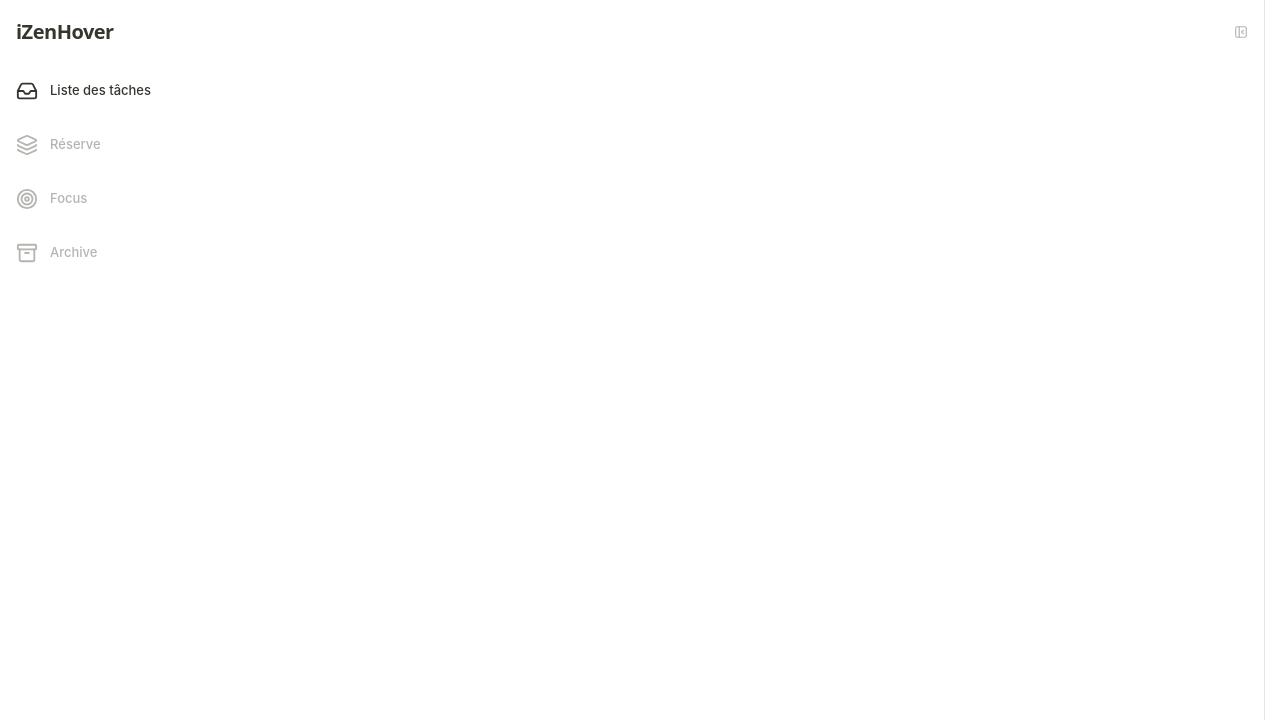
Test: SidebarNav — collapse toggle › updates the toggle button aria-label when collapsed
Click the button named "Réduire la navigation".
click(1241, 32)  # box [1234,16,1248,48]
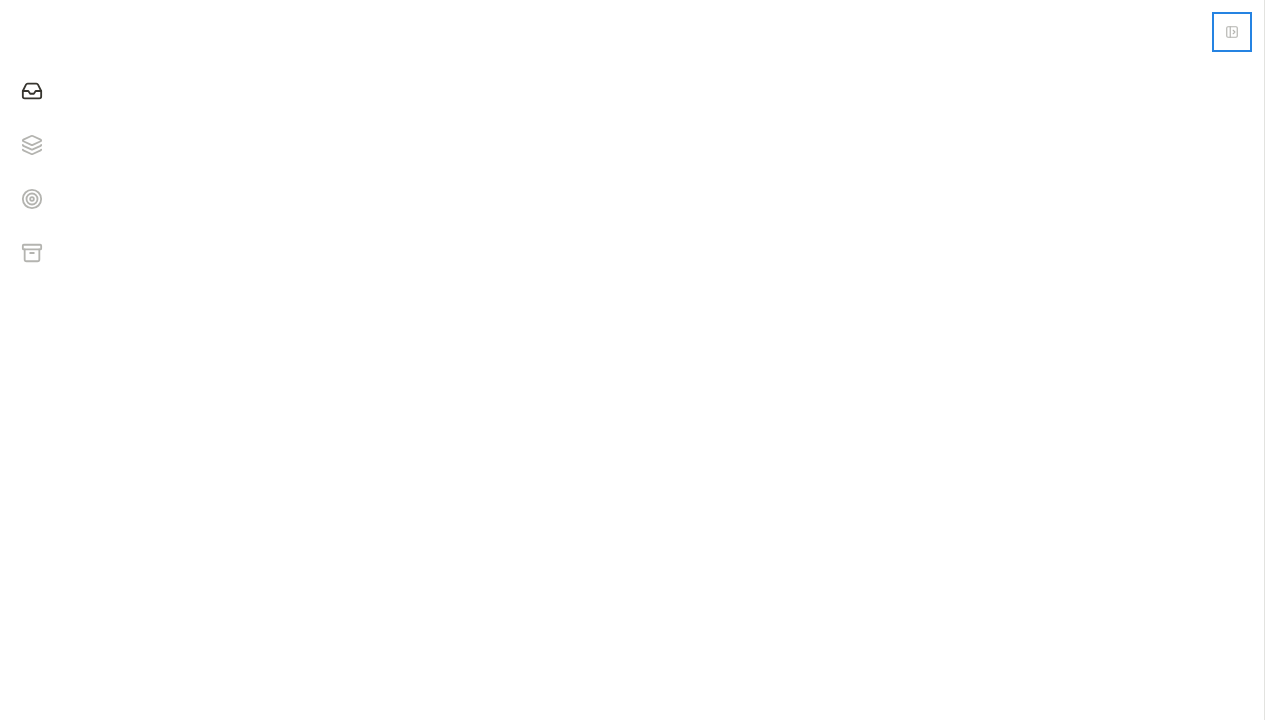
Expected: the button named "Agrandir la navigation" is shown, [1216,16,1248,48]
